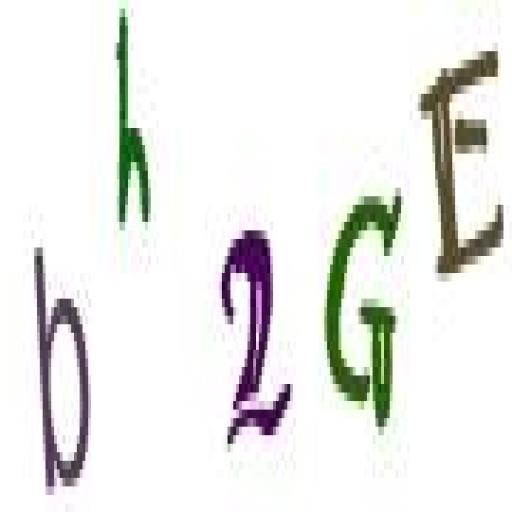2: (218, 219, 296, 454)
E: (414, 48, 512, 287)
G: (317, 178, 410, 461)
b: (31, 224, 94, 500)
h: (112, 7, 155, 244)
